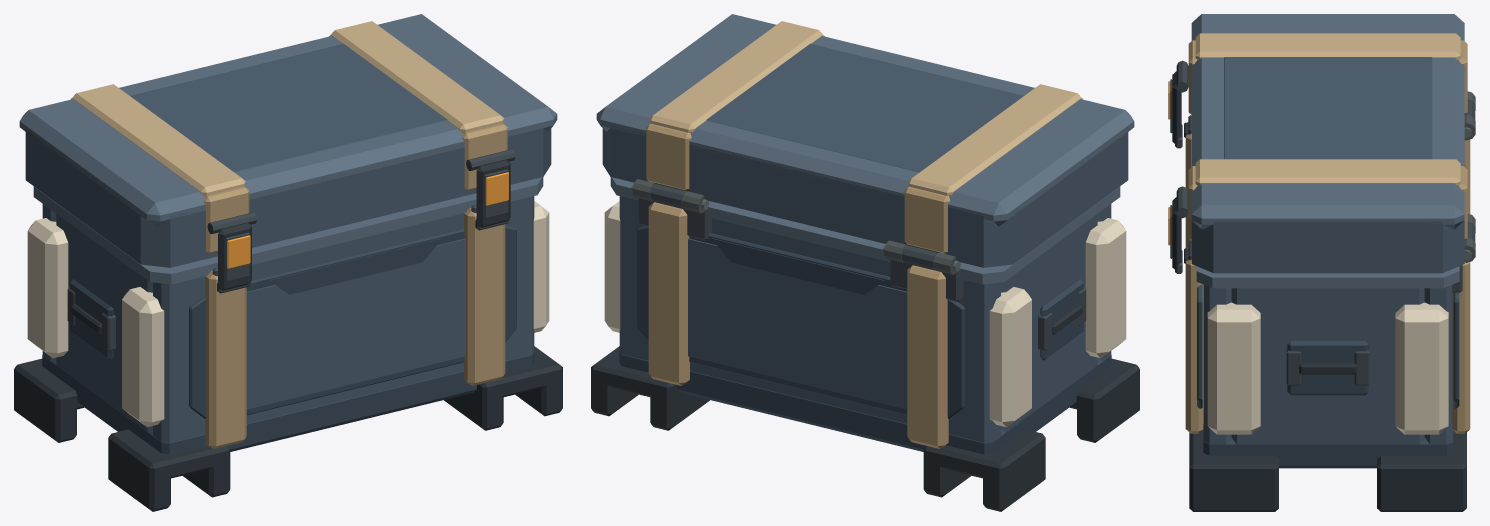
Rendered from field-chest.glb.
The picture shows the model from 3 angles, left to right: view 1: azimuth 30°, elevation 25°; view 2: azimuth 150°, elevation 25°; view 3: azimuth 270°, elevation 25°; orthographic projection.
Parts seen in each view (by area): view 1: ChestBody, ChestLid, ChestLatchRightGeometry, ChestLatchLeftGeometry; view 2: ChestBody, ChestLid; view 3: ChestLid, ChestBody, ChestLatchLeftGeometry, ChestLatchRightGeometry.
Part boxes in pixels (<box>): ChestBody: <box>14,177,562,511</box>; ChestLid: <box>19,14,557,267</box>; ChestLatchRightGeometry: <box>475,160,510,230</box>; ChestLatchLeftGeometry: <box>217,223,251,293</box>; ChestBody: <box>591,177,1139,511</box>; ChestLid: <box>596,14,1134,269</box>; ChestLid: <box>1176,14,1475,273</box>; ChestBody: <box>1184,91,1475,511</box>; ChestLatchLeftGeometry: <box>1168,71,1182,148</box>; ChestLatchRightGeometry: <box>1168,197,1182,273</box>.
Bounding box in the file's own units: 1.43 × 1.02 × 0.9236.
1 material, 1 textured.
